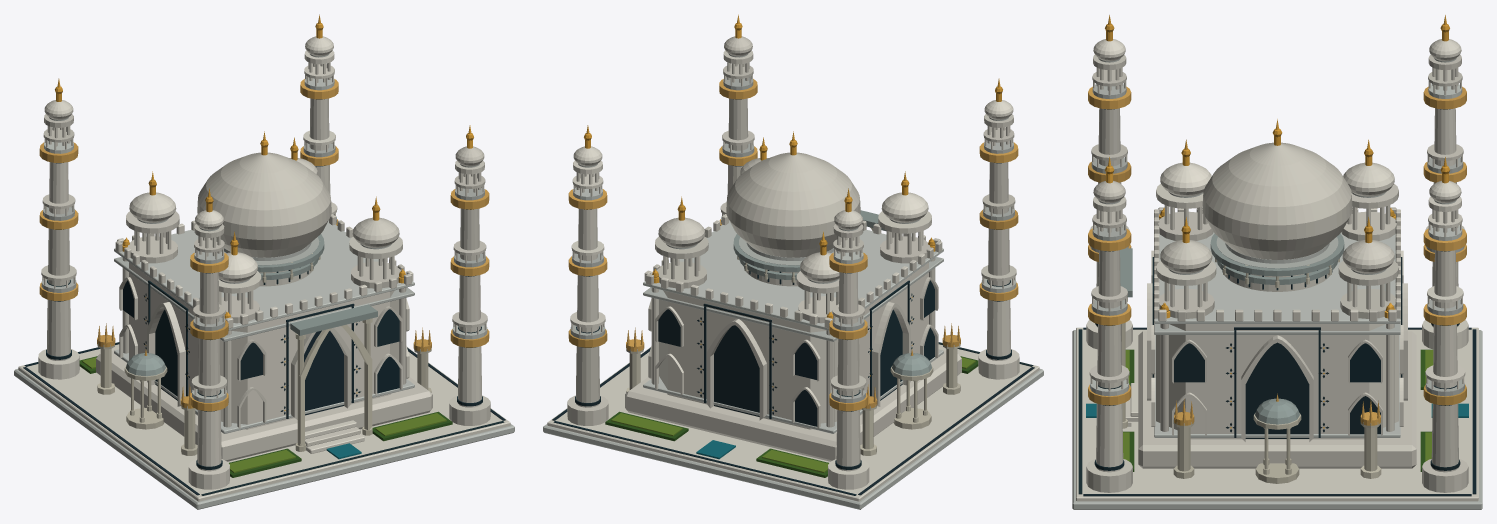
3 views of the same model, side by side, from view 1: azimuth 30°, elevation 25°; view 2: azimuth 150°, elevation 25°; view 3: azimuth 270°, elevation 25° (orthographic). The views are drawn at different scales.
Parts seen in each view (by area): view 1: fort_L6_0, fort_L6_1; view 2: fort_L6_0, fort_L6_1; view 3: fort_L6_0, fort_L6_1.
Boxes of the visible parts, x1,y1,x2,y2 form: fort_L6_0: [14, 23, 514, 509]; fort_L6_1: [39, 14, 489, 411]; fort_L6_0: [543, 23, 1043, 509]; fort_L6_1: [568, 14, 1018, 411]; fort_L6_0: [1072, 24, 1482, 509]; fort_L6_1: [1088, 15, 1466, 428].
Bounding box in the file's own units: 7.6 × 6.93 × 7.6.
